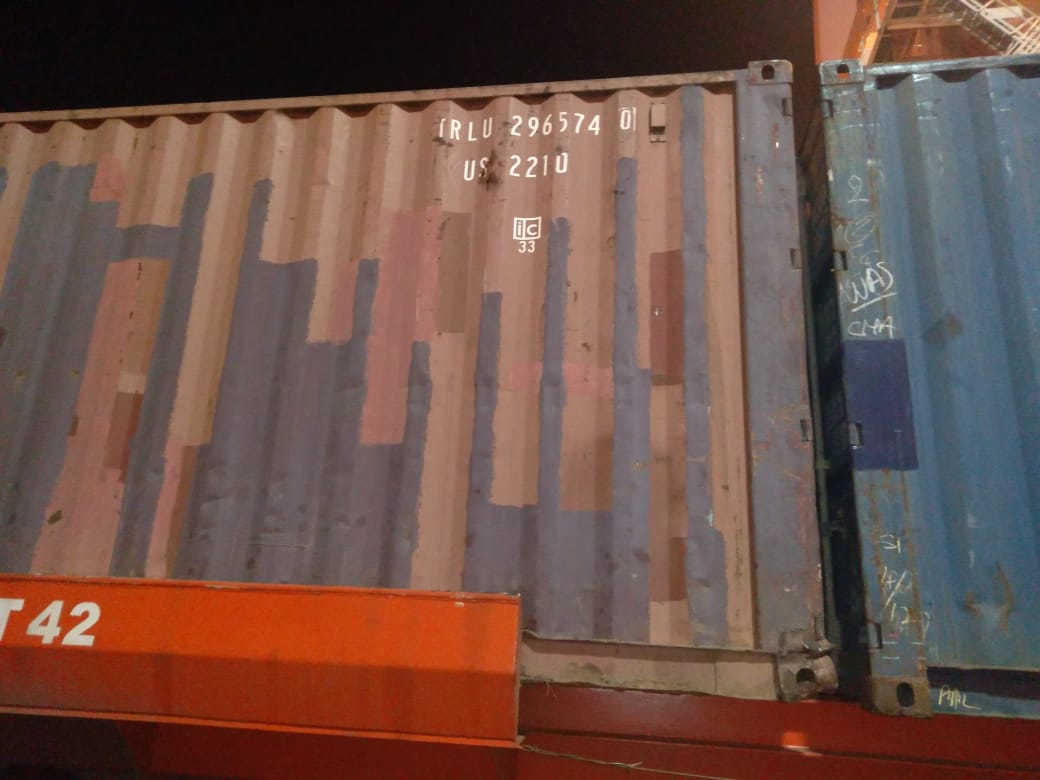rust: (478, 157, 509, 200)
